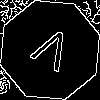V: (25, 25, 76, 81)
